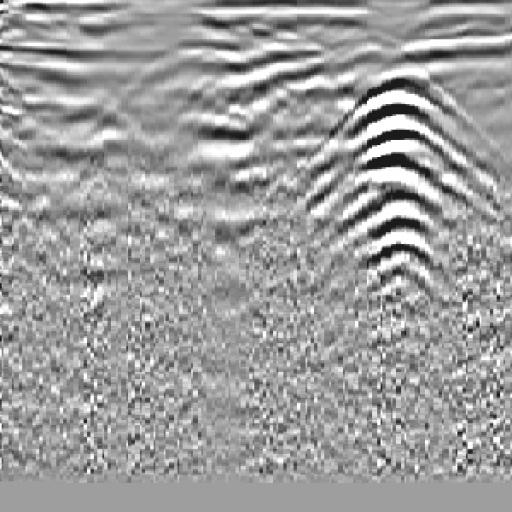metalic: (311, 59, 481, 323)
